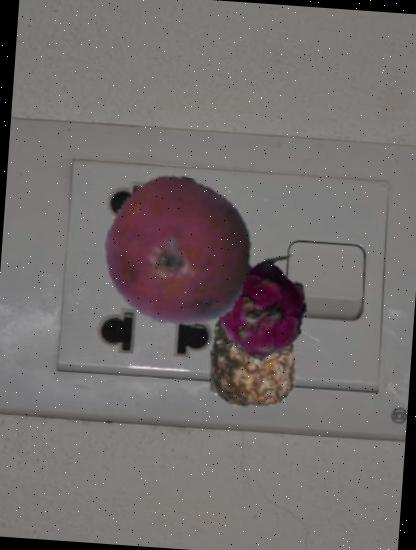Pineapple: (192, 290, 314, 412)
Pitahaya: (202, 254, 314, 366)
Pomegranate: (100, 172, 258, 330)
